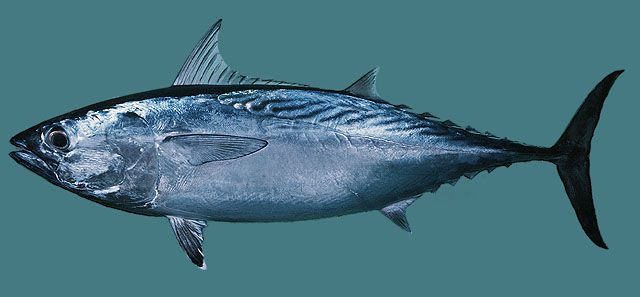fish: (9, 17, 626, 271)
